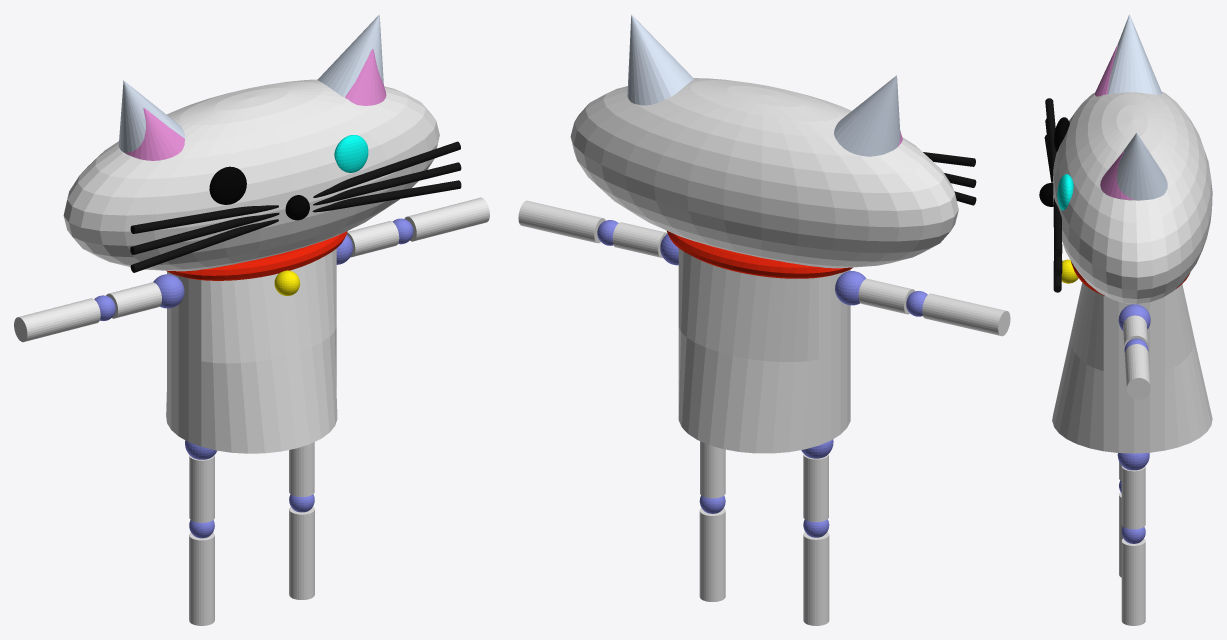
3 views of the same model, side by side, from view 1: azimuth 30°, elevation 25°; view 2: azimuth 150°, elevation 25°; view 3: azimuth 270°, elevation 25° (orthographic). The views are drawn at different scales.
Visible parts, largest first — view 1: Sphere.001; view 2: Sphere.001; view 3: Sphere.001.
Part boxes in pixels (box(x1,y1,x2,y2)): Sphere.001: box(14, 14, 489, 625); Sphere.001: box(518, 14, 1010, 625); Sphere.001: box(1039, 14, 1212, 625).
Size of the model in its own units: 632 by 721 by 216.
